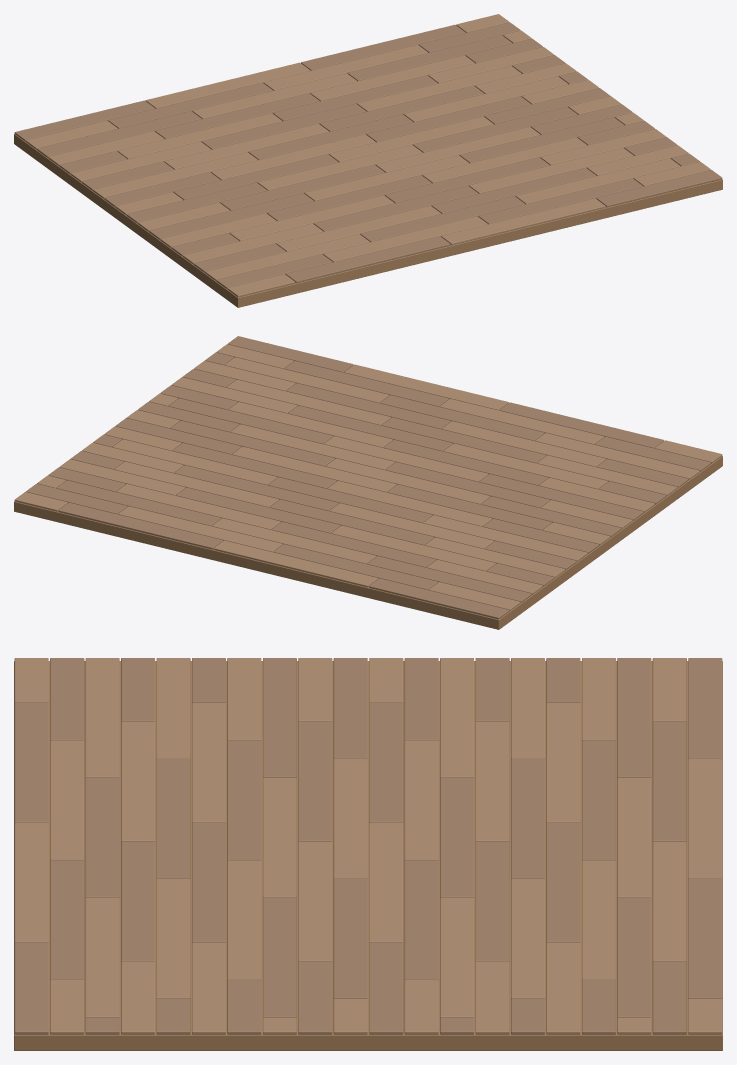
The model's file is Parlor_Floor.fbx.
3 renders of one model, top to bottom at view 1: azimuth 30°, elevation 25°; view 2: azimuth 150°, elevation 25°; view 3: azimuth 270°, elevation 25°, orthographic. The views are drawn at different scales.
Visible parts, largest first — view 1: Parlor_Floor_Mesh; view 2: Parlor_Floor_Mesh; view 3: Parlor_Floor_Mesh.
Boxes of the visible parts, x1,y1,x2,y2 form: Parlor_Floor_Mesh: (14, 14, 722, 307); Parlor_Floor_Mesh: (14, 336, 722, 629); Parlor_Floor_Mesh: (14, 658, 722, 1050).
Size of the model in its own units: 5 by 0.12 by 4.
